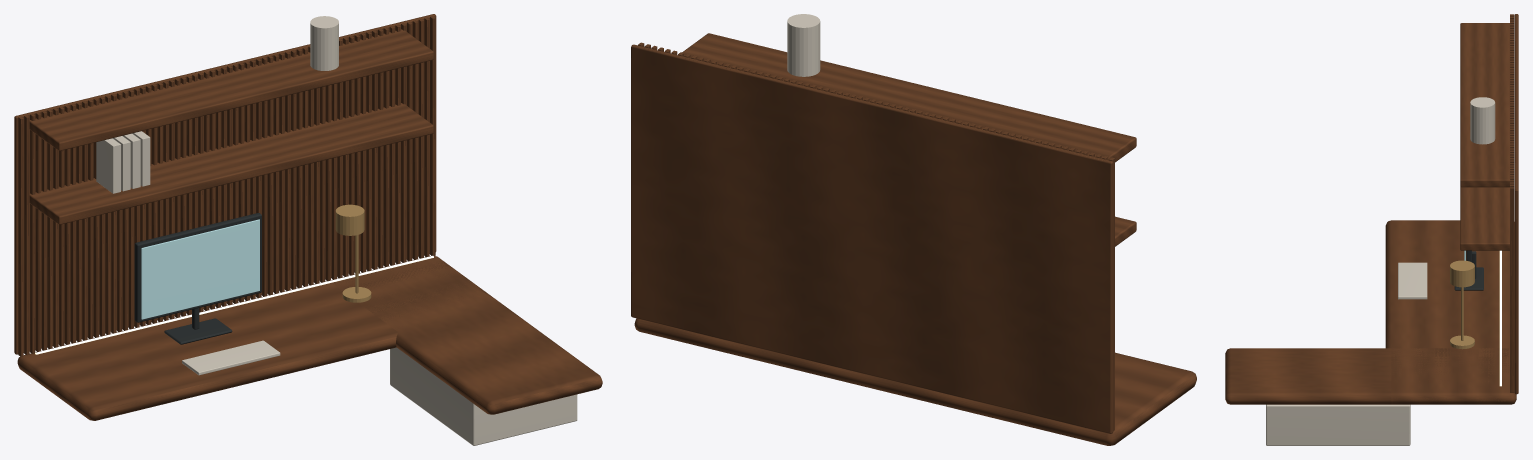
File: walnut-corner-office.glb
3 views of the same model, side by side, from view 1: azimuth 30°, elevation 25°; view 2: azimuth 150°, elevation 25°; view 3: azimuth 270°, elevation 25° (orthographic). The views are drawn at different scales.
Parts seen in each view (by area): view 1: North floating desktop, Two floating drawers, Monitor glass, Monitor bezel, Desk lamp base, Office warm strip; view 2: North floating desktop, Two floating drawers; view 3: North floating desktop, Two floating drawers, Desk lamp base, Monitor bezel, Office warm strip.
Boxes of the visible parts, x1=… form: North floating desktop: x1=14, y1=14, x2=602, y2=420; Two floating drawers: x1=96, y1=16, x2=577, y2=445; Monitor glass: x1=141, y1=219, x2=259, y2=319; Monitor bezel: x1=134, y1=213, x2=261, y2=344; Desk lamp base: x1=335, y1=204, x2=371, y2=302; Office warm strip: x1=35, y1=255, x2=433, y2=354; North floating desktop: x1=631, y1=33, x2=1196, y2=445; Two floating drawers: x1=787, y1=14, x2=820, y2=76; North floating desktop: x1=1225, y1=14, x2=1518, y2=404; Two floating drawers: x1=1266, y1=97, x2=1495, y2=445; Desk lamp base: x1=1450, y1=260, x2=1474, y2=349; Monitor bezel: x1=1454, y1=250, x2=1483, y2=290; Office warm strip: x1=1499, y1=250, x2=1501, y2=386.
Bounding box in the file's own units: 1.85 × 1.42 × 1.3.
Materials: 6 (1 with a texture image).
